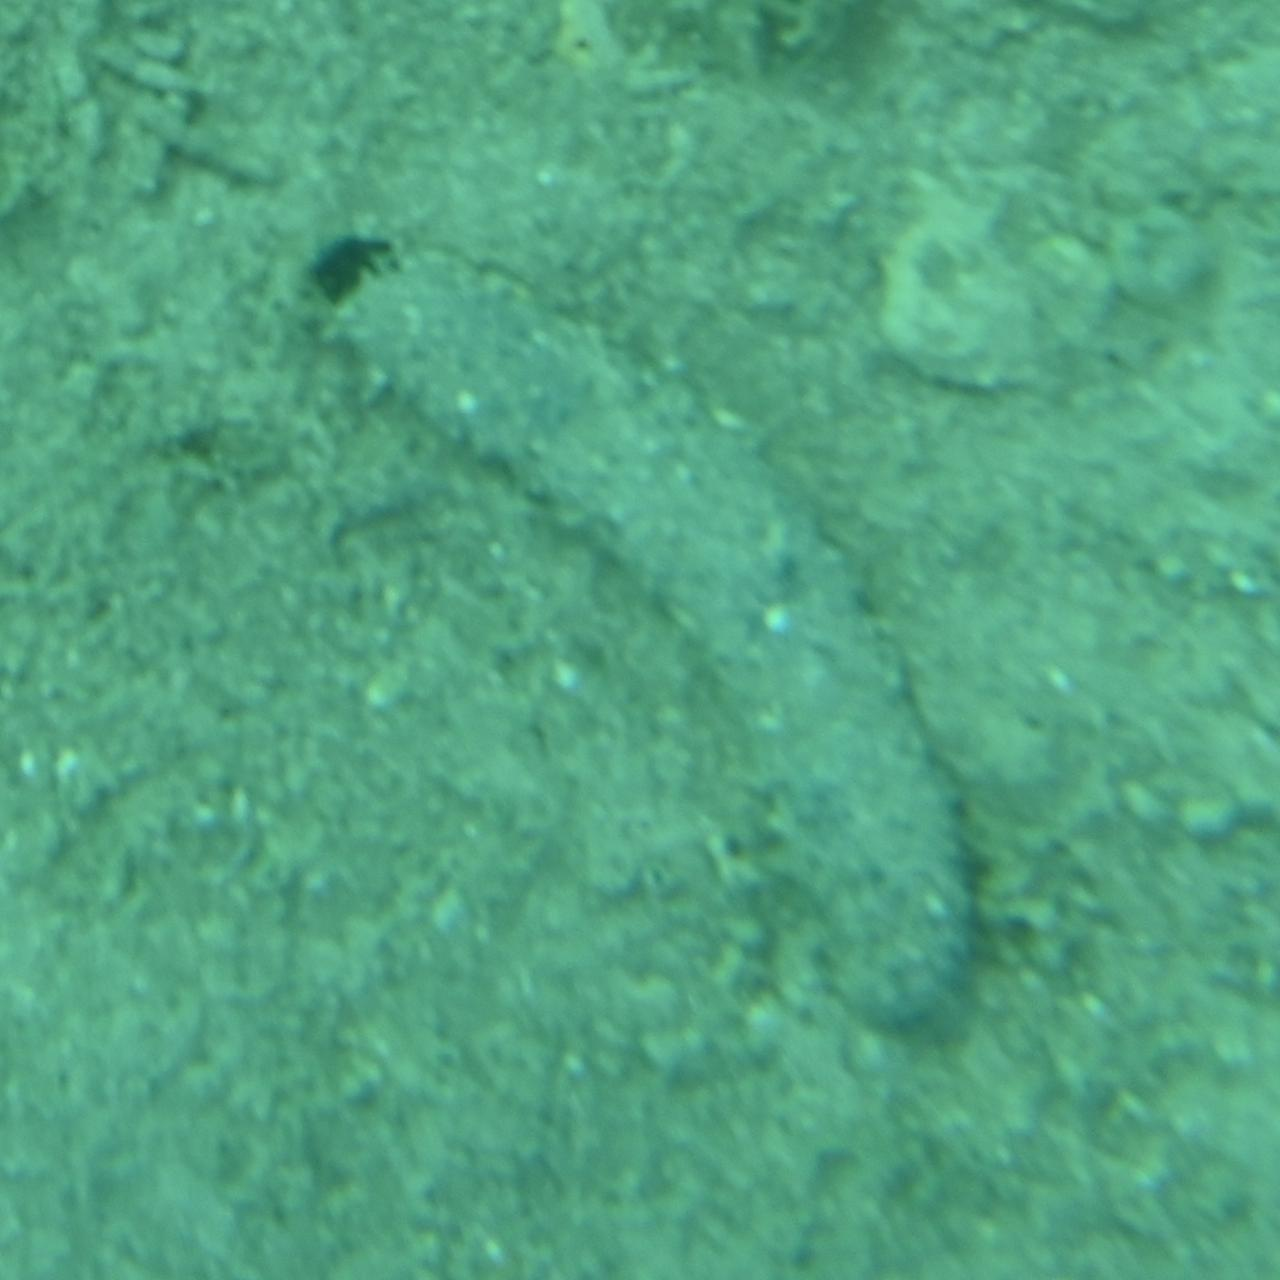Holothuria tubulosa: (286, 230, 994, 1050)
